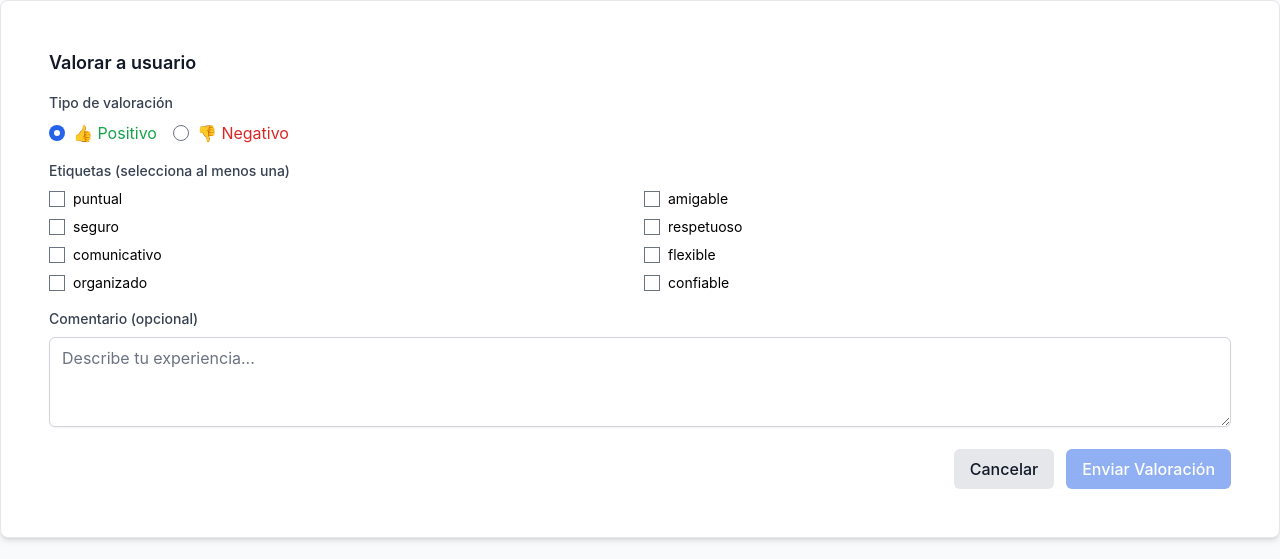
RatingForm › should show error when no tags selected
The width and height of the screenshot is (1280, 559).
// First select a tag to enable the button
What coordinates should you click on to do the following:
click the checkbox labelled "puntual"
I would click on:
 (57, 199)
Its box is [49,191,65,207].
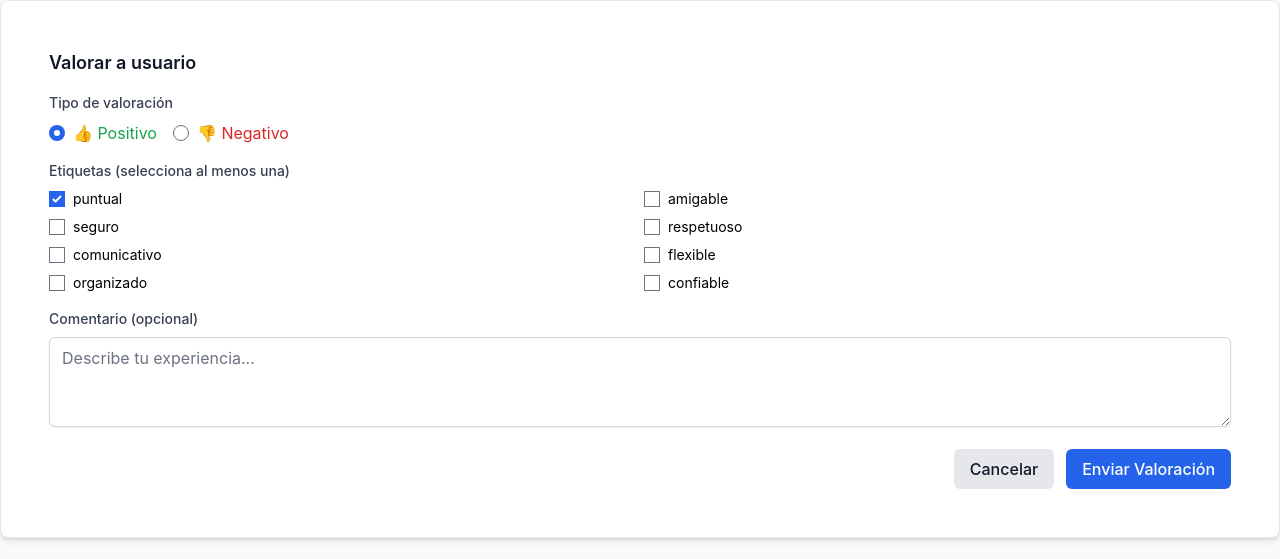
// Then deselect it to test the error
What coordinates should you click on to do the following:
click the checkbox labelled "puntual"
I would click on:
 (57, 199)
Its box is [49,191,65,207].
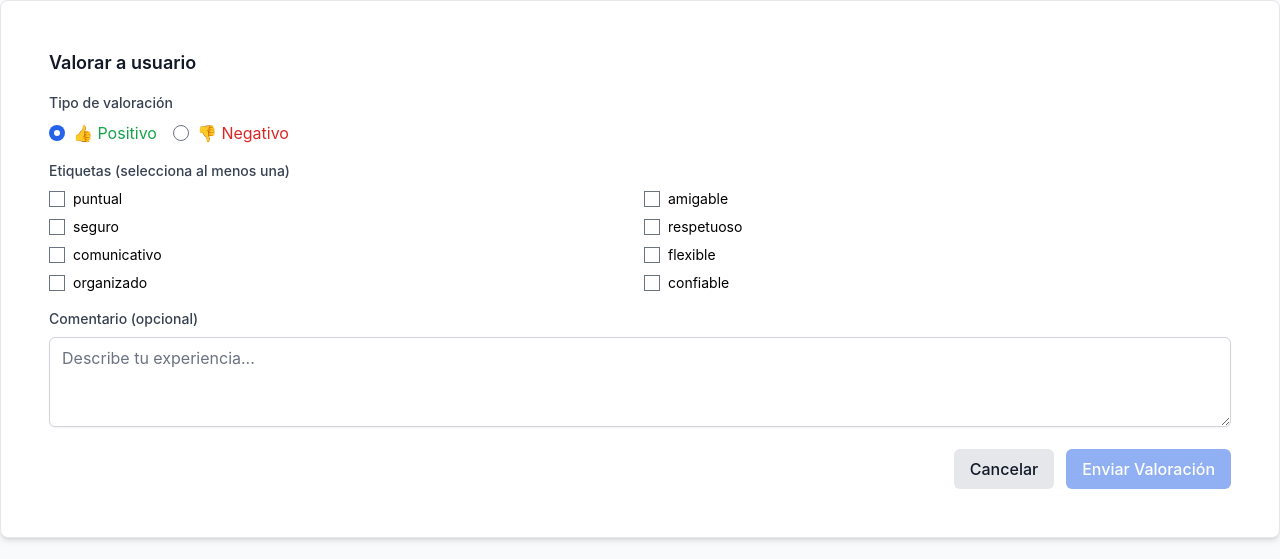
Expected: the button "Enviar Valoración" is disabled, [1066,449,1231,489]
